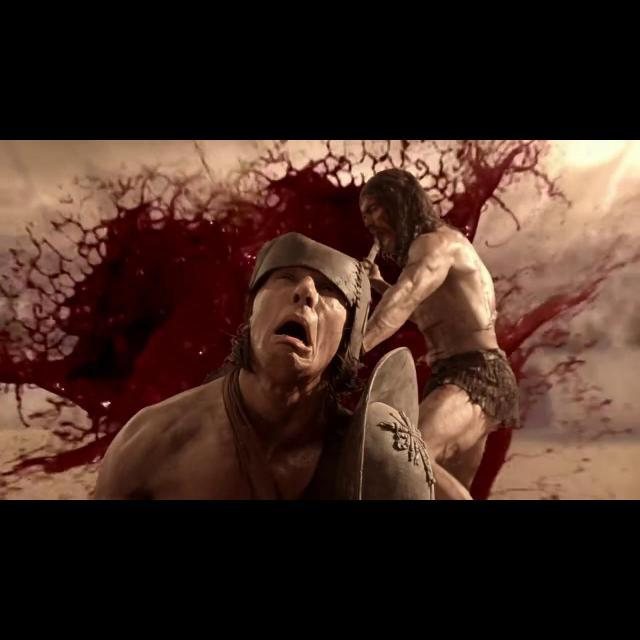blood: (0, 140, 640, 499)
